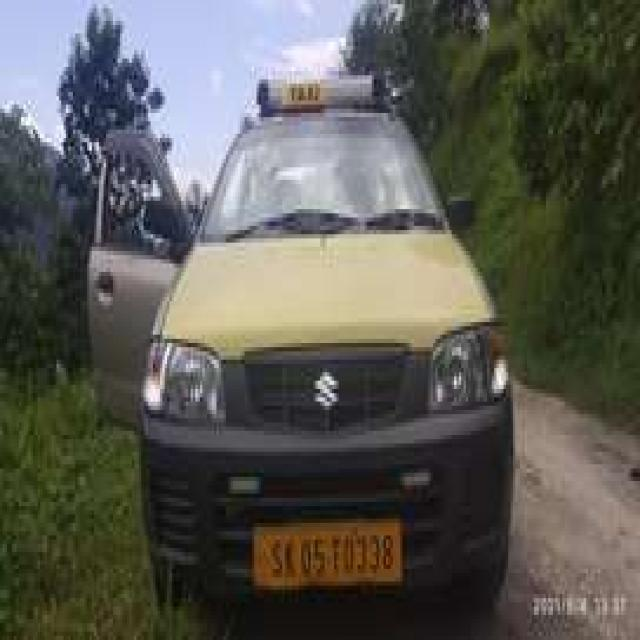licenseplate: (251, 519, 406, 589)
